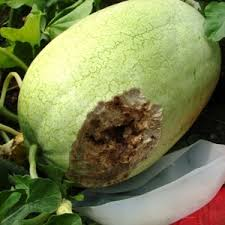damaged_watermelon: (27, 17, 201, 185)
